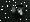person: (13, 6, 23, 19)
